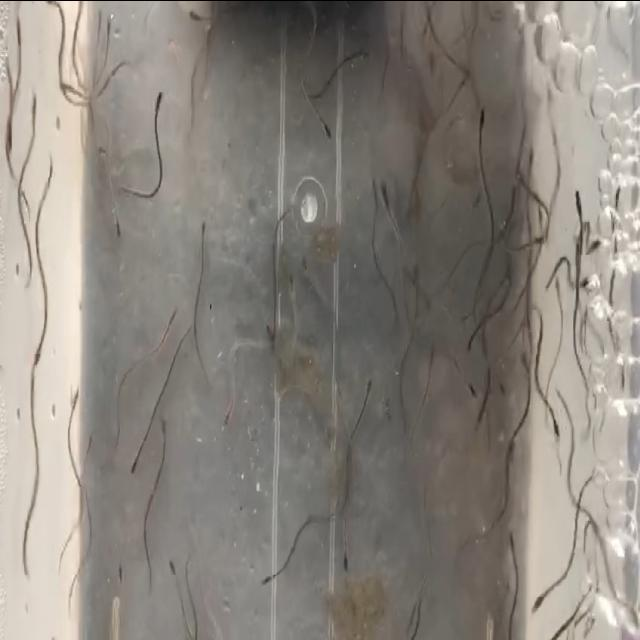active_glass_eel: (259, 514, 281, 596), (378, 170, 402, 228), (358, 166, 382, 218), (426, 26, 442, 100), (572, 180, 588, 252), (64, 382, 88, 427), (168, 534, 180, 620), (472, 177, 490, 233), (503, 167, 523, 215), (220, 385, 237, 441), (471, 102, 493, 144), (190, 220, 220, 250), (550, 411, 568, 460), (262, 310, 282, 351), (57, 60, 77, 101), (164, 288, 180, 338), (158, 397, 174, 447), (32, 323, 46, 380), (316, 111, 340, 142), (464, 354, 474, 424), (151, 84, 169, 122), (360, 376, 378, 412), (355, 41, 375, 70), (111, 196, 128, 230), (518, 346, 536, 378), (15, 2, 26, 54), (424, 340, 438, 380), (185, 0, 204, 28), (102, 0, 116, 38), (530, 224, 548, 252), (508, 532, 526, 560), (576, 276, 594, 304), (126, 451, 142, 482), (27, 88, 39, 128), (343, 552, 357, 584), (86, 424, 98, 461), (465, 326, 479, 356), (533, 198, 549, 224), (530, 576, 542, 610), (4, 126, 15, 162), (497, 374, 512, 400), (45, 0, 66, 17), (24, 538, 32, 581), (115, 552, 128, 578), (472, 412, 486, 436), (592, 236, 604, 262)
